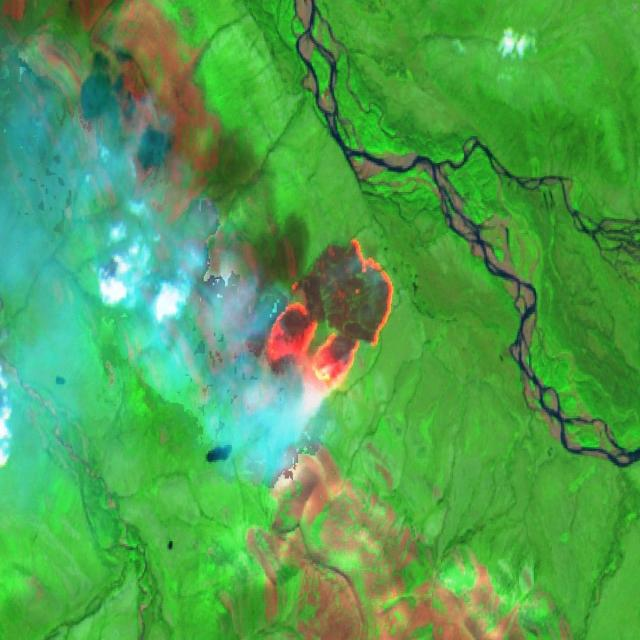fire: (263, 233, 398, 408)
